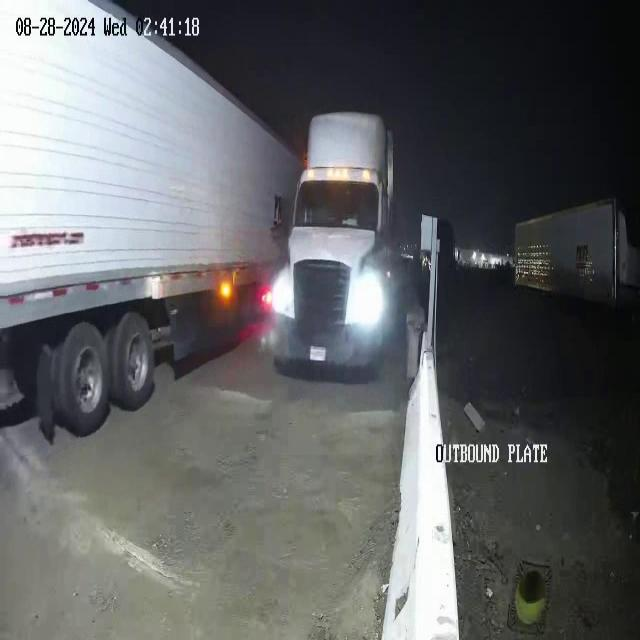TRUCK_IN: (0, 0, 266, 438)
TRUCK_OUT: (268, 81, 416, 367)
